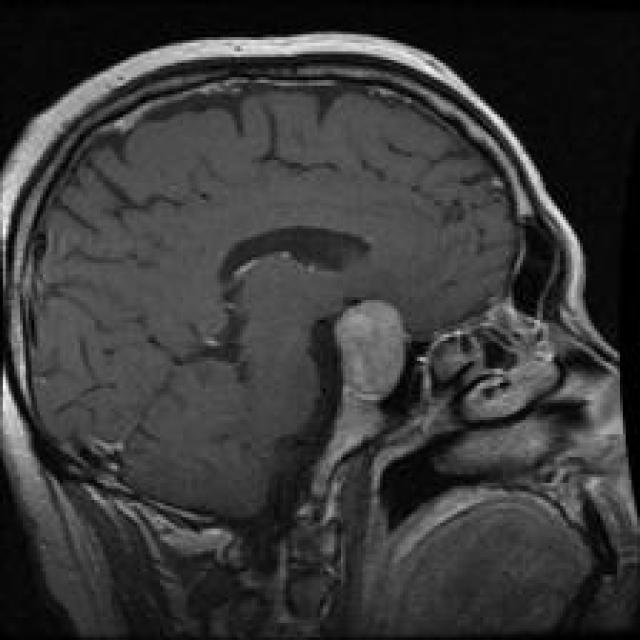pituitary_tumor: (306, 280, 426, 460)
